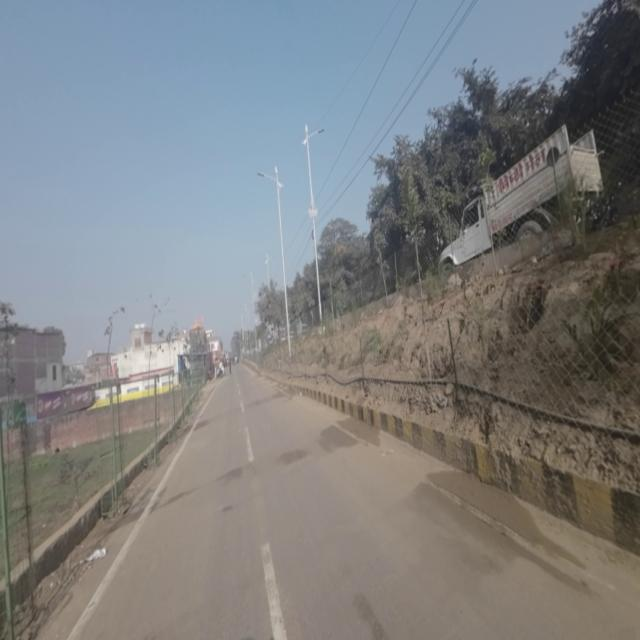Garbage: (85, 542, 108, 566)
